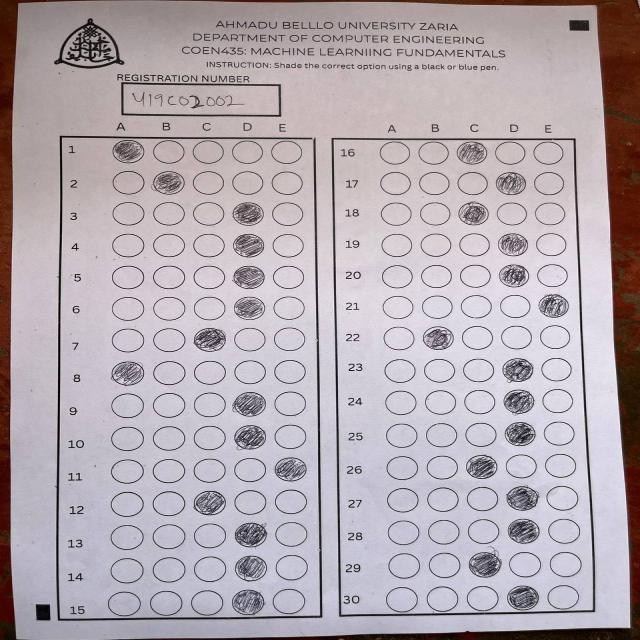bubble: (234, 555, 267, 582), (468, 551, 501, 578), (111, 139, 146, 164), (193, 490, 226, 516), (507, 518, 540, 544), (506, 585, 540, 610), (232, 589, 264, 615), (233, 425, 266, 450), (234, 522, 267, 547), (193, 327, 227, 351), (232, 392, 266, 416), (503, 389, 535, 414), (274, 457, 306, 482), (111, 362, 144, 386), (506, 486, 539, 510), (152, 171, 184, 195), (232, 202, 264, 226), (233, 265, 265, 289), (538, 294, 570, 318), (233, 233, 265, 257), (502, 358, 534, 382), (504, 422, 536, 446), (458, 202, 489, 226), (466, 454, 497, 478), (498, 264, 530, 287), (422, 326, 454, 349), (233, 297, 265, 320), (456, 141, 487, 164), (496, 172, 526, 195), (498, 233, 528, 256), (49, 369, 50, 420)
